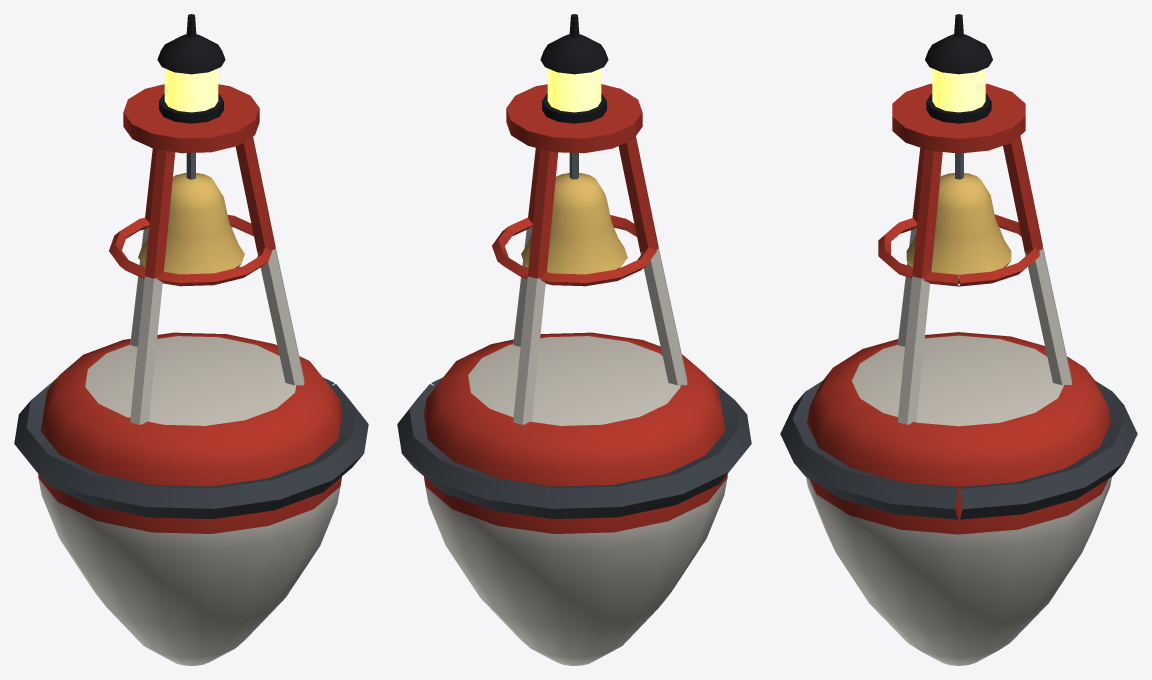
The picture shows the model from 3 angles, left to right: view 1: azimuth 30°, elevation 25°; view 2: azimuth 150°, elevation 25°; view 3: azimuth 270°, elevation 25°; orthographic projection.
Parts seen in each view (by area): view 1: bellbuoy_body, bell, light; view 2: bellbuoy_body, bell, light; view 3: bellbuoy_body, bell, light.
Part boxes in pixels (<box>): bellbuoy_body: <box>14,14,368,665</box>; bell: <box>138,152,244,274</box>; light: <box>164,68,218,112</box>; bellbuoy_body: <box>397,14,751,665</box>; bell: <box>521,152,627,274</box>; light: <box>547,68,601,112</box>; bellbuoy_body: <box>780,14,1137,665</box>; bell: <box>906,153,1011,283</box>; light: <box>932,68,985,112</box>.
Bounding box in the file's own units: 0.2198 × 0.438 × 0.22.
